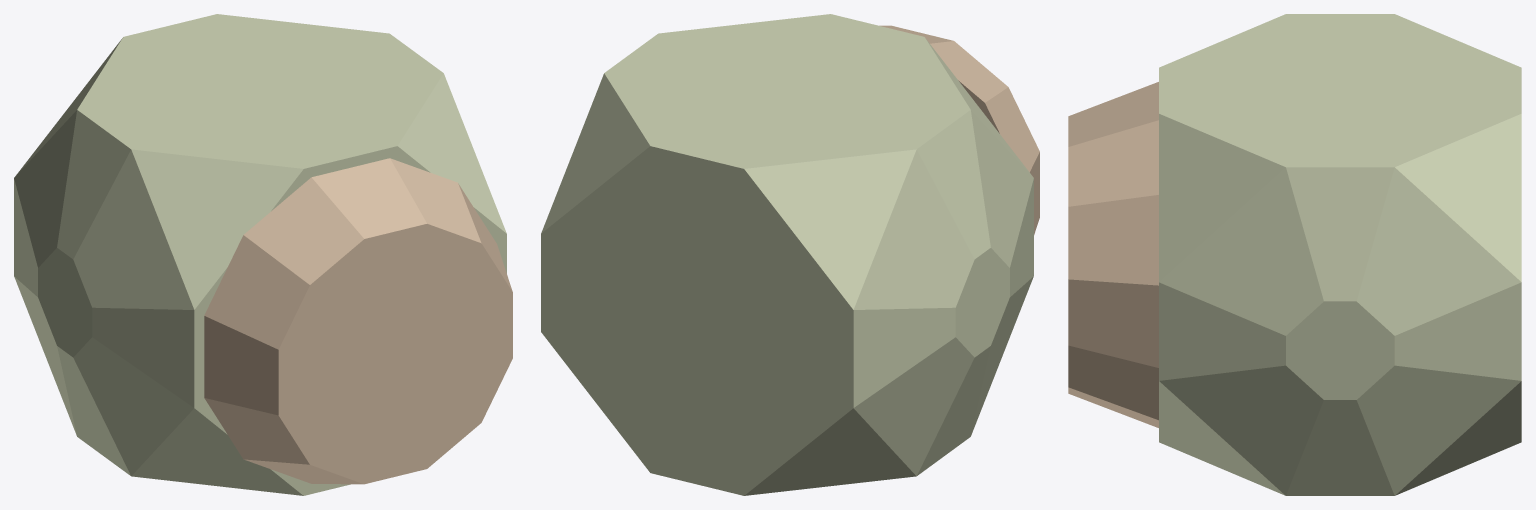
The model's file is kristall node collider.obj.
3 views of the same model, side by side, from view 1: azimuth 30°, elevation 25°; view 2: azimuth 150°, elevation 25°; view 3: azimuth 270°, elevation 25° (orthographic).
Visible parts, largest first — view 1: c1, c2; view 2: c1, c2; view 3: c1, c2.
Part boxes in pixels (bbox=[...]): c1: bbox=[14, 14, 506, 495]; c2: bbox=[204, 158, 512, 484]; c1: bbox=[541, 14, 1033, 495]; c2: bbox=[879, 25, 1039, 234]; c1: bbox=[1159, 14, 1521, 495]; c2: bbox=[1068, 82, 1158, 427].
Size of the model in its own units: 1.25 by 1 by 1.25.
